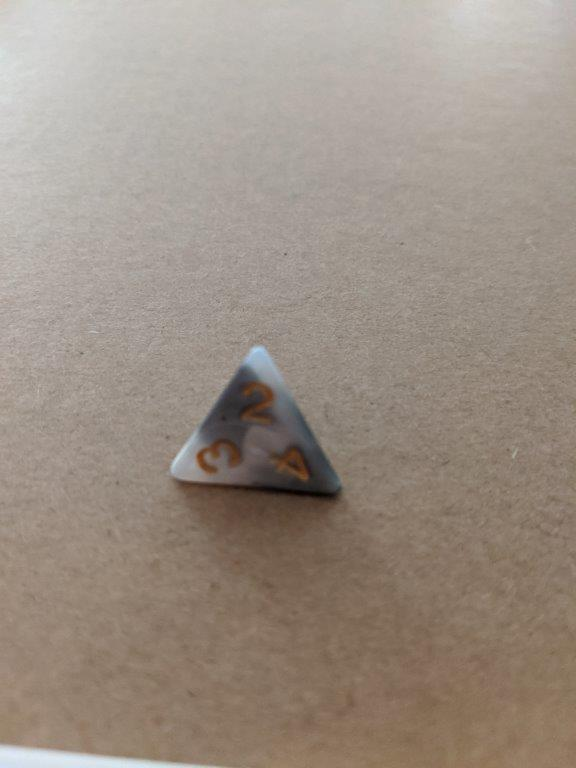d4-2: (167, 336, 346, 504)
